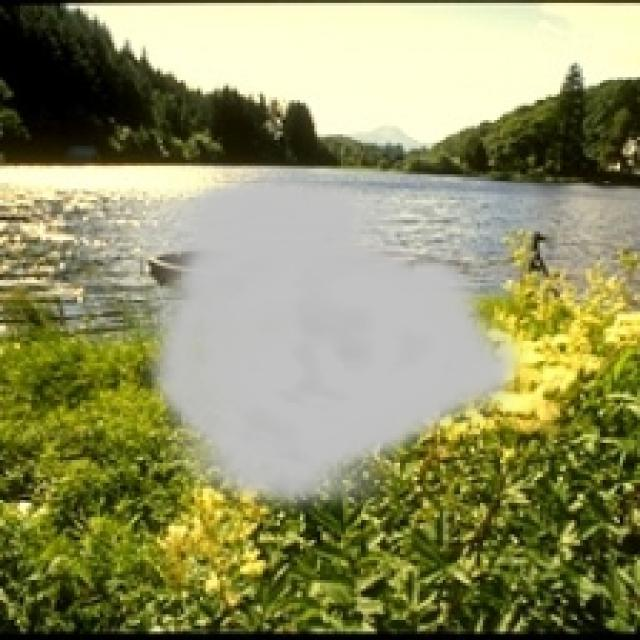Smoke: (140, 168, 529, 520)
